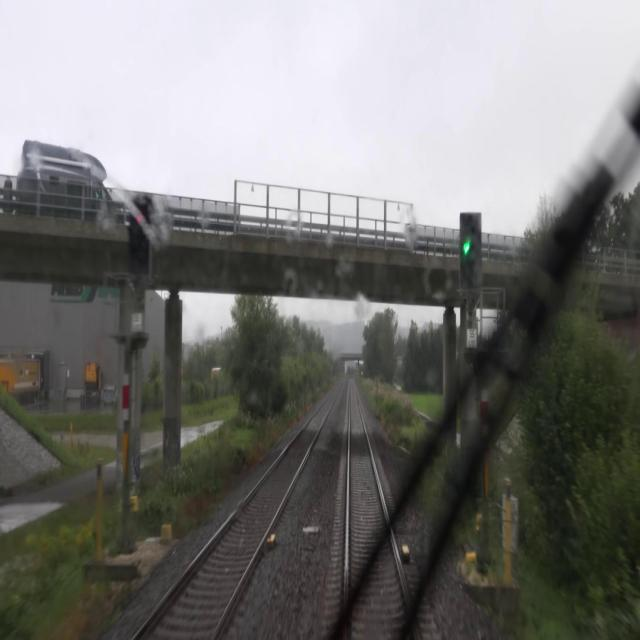rail-track: (136, 392, 335, 639), (347, 386, 415, 639)
